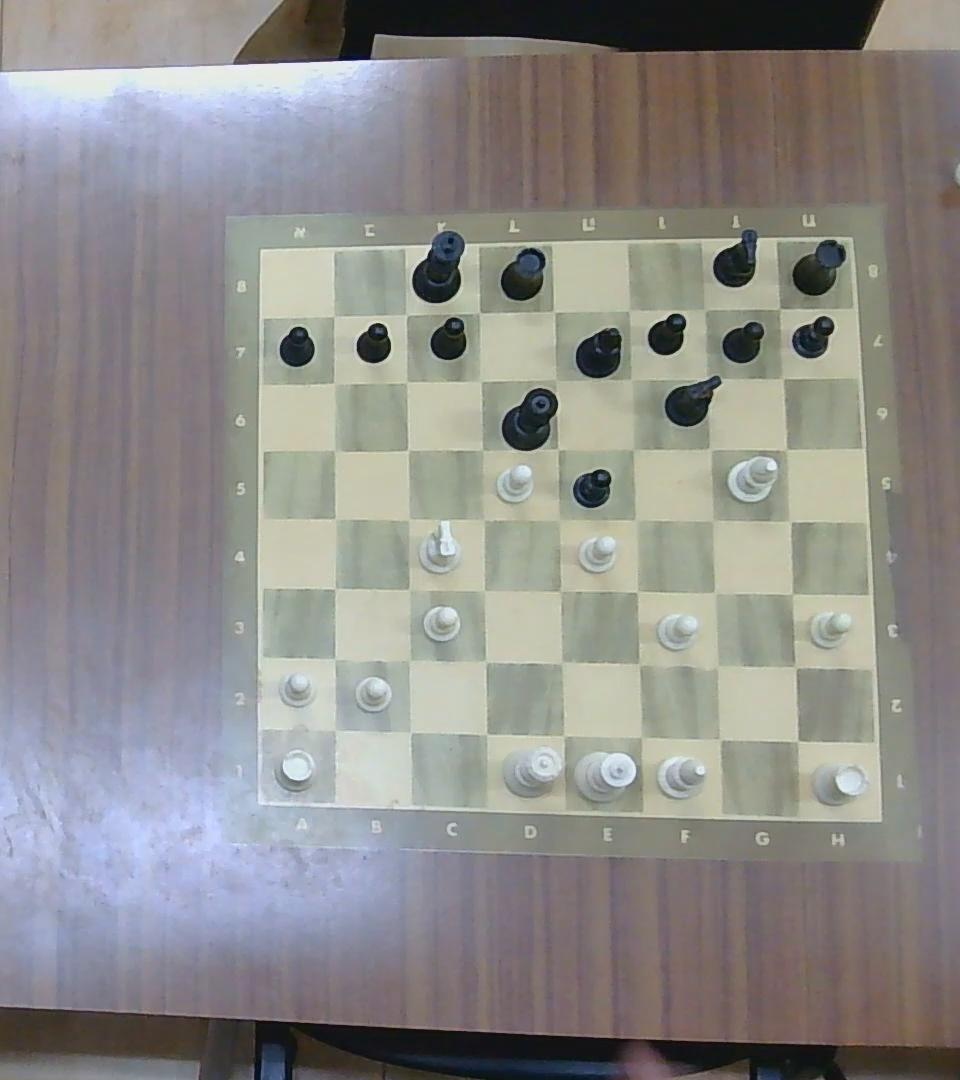xcorner: (791, 734, 804, 751), (784, 588, 798, 603), (709, 662, 724, 676), (473, 376, 489, 389), (327, 654, 343, 667), (789, 662, 803, 676), (403, 727, 419, 739), (404, 653, 416, 668), (714, 732, 726, 747), (328, 310, 340, 324), (624, 305, 636, 318), (330, 514, 343, 526), (329, 726, 341, 739), (635, 732, 648, 744), (634, 658, 645, 672), (328, 446, 343, 456), (783, 517, 796, 528), (481, 730, 492, 742), (558, 731, 569, 743), (552, 446, 565, 456), (712, 588, 721, 602), (699, 305, 710, 316), (402, 378, 413, 389), (550, 308, 560, 320), (780, 446, 792, 456), (557, 658, 567, 670), (549, 377, 562, 386), (330, 380, 340, 391), (480, 516, 490, 527), (632, 586, 641, 598), (480, 658, 492, 667), (476, 309, 486, 319), (556, 586, 566, 596), (779, 375, 788, 385), (478, 448, 488, 457), (706, 446, 715, 456), (709, 516, 717, 527), (555, 517, 564, 526), (403, 312, 411, 322), (774, 306, 784, 314), (405, 516, 415, 524), (632, 516, 640, 526), (406, 586, 414, 596), (480, 588, 490, 596), (628, 377, 636, 385), (630, 446, 637, 455), (702, 377, 712, 383), (331, 586, 338, 594), (406, 448, 412, 454)
